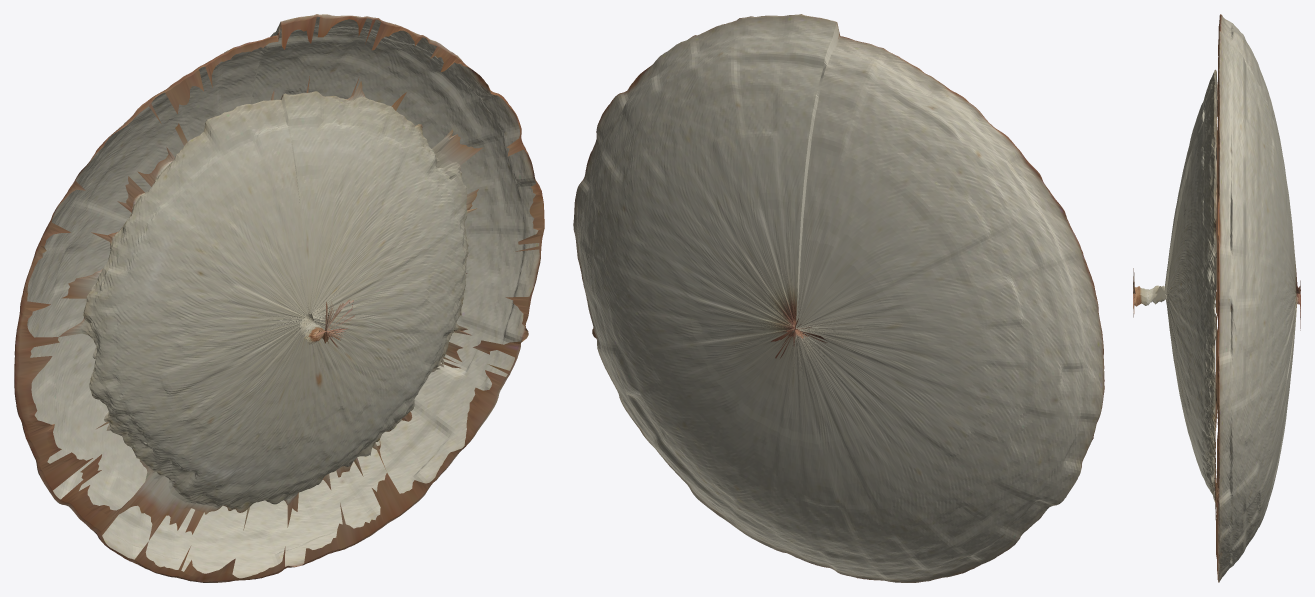
The picture shows the model from 3 angles, left to right: view 1: azimuth 30°, elevation 25°; view 2: azimuth 150°, elevation 25°; view 3: azimuth 270°, elevation 25°; orthographic projection. The views are drawn at different scales.
Visible parts, largest first — view 1: geometry_0; view 2: geometry_0; view 3: geometry_0.
Boxes of the visible parts, x1=… form: geometry_0: x1=14, y1=14, x2=544, y2=582; geometry_0: x1=573, y1=14, x2=1104, y2=582; geometry_0: x1=1133, y1=14, x2=1300, y2=582.
Bounding box in the file's own units: 1.97 × 1.96 × 0.5695.
Materials: 1 (1 with a texture image).
